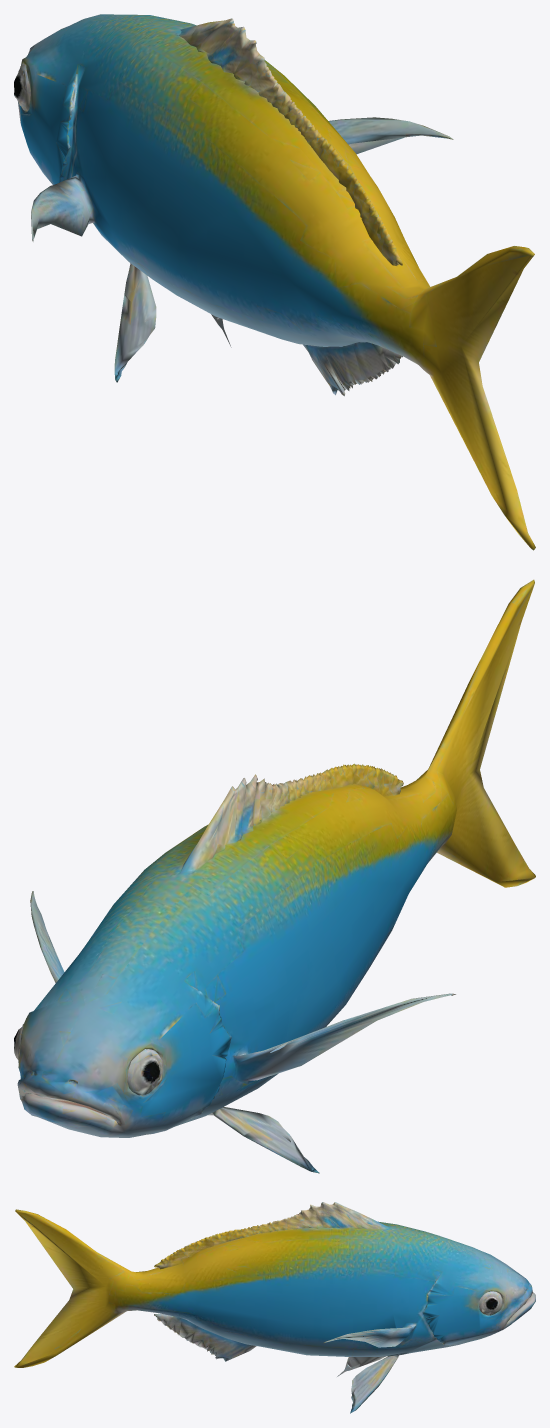
Rendered from fuselier.glb.
3 renders of one model, top to bottom at view 1: azimuth 30°, elevation 25°; view 2: azimuth 150°, elevation 25°; view 3: azimuth 270°, elevation 25°, orthographic. The views are drawn at different scales.
Parts seen in each view (by area): view 1: tripo_node_32f512d8-82d8-42df-9b5a-e35bcbfa3671; view 2: tripo_node_32f512d8-82d8-42df-9b5a-e35bcbfa3671; view 3: tripo_node_32f512d8-82d8-42df-9b5a-e35bcbfa3671.
Part boxes in pixels (<box>): tripo_node_32f512d8-82d8-42df-9b5a-e35bcbfa3671: <box>14,14,535,550</box>; tripo_node_32f512d8-82d8-42df-9b5a-e35bcbfa3671: <box>14,579,535,1173</box>; tripo_node_32f512d8-82d8-42df-9b5a-e35bcbfa3671: <box>14,1202,535,1413</box>.
Size of the model in its own units: 0.3776 by 0.3 by 0.7627.
1 material, 1 textured.
